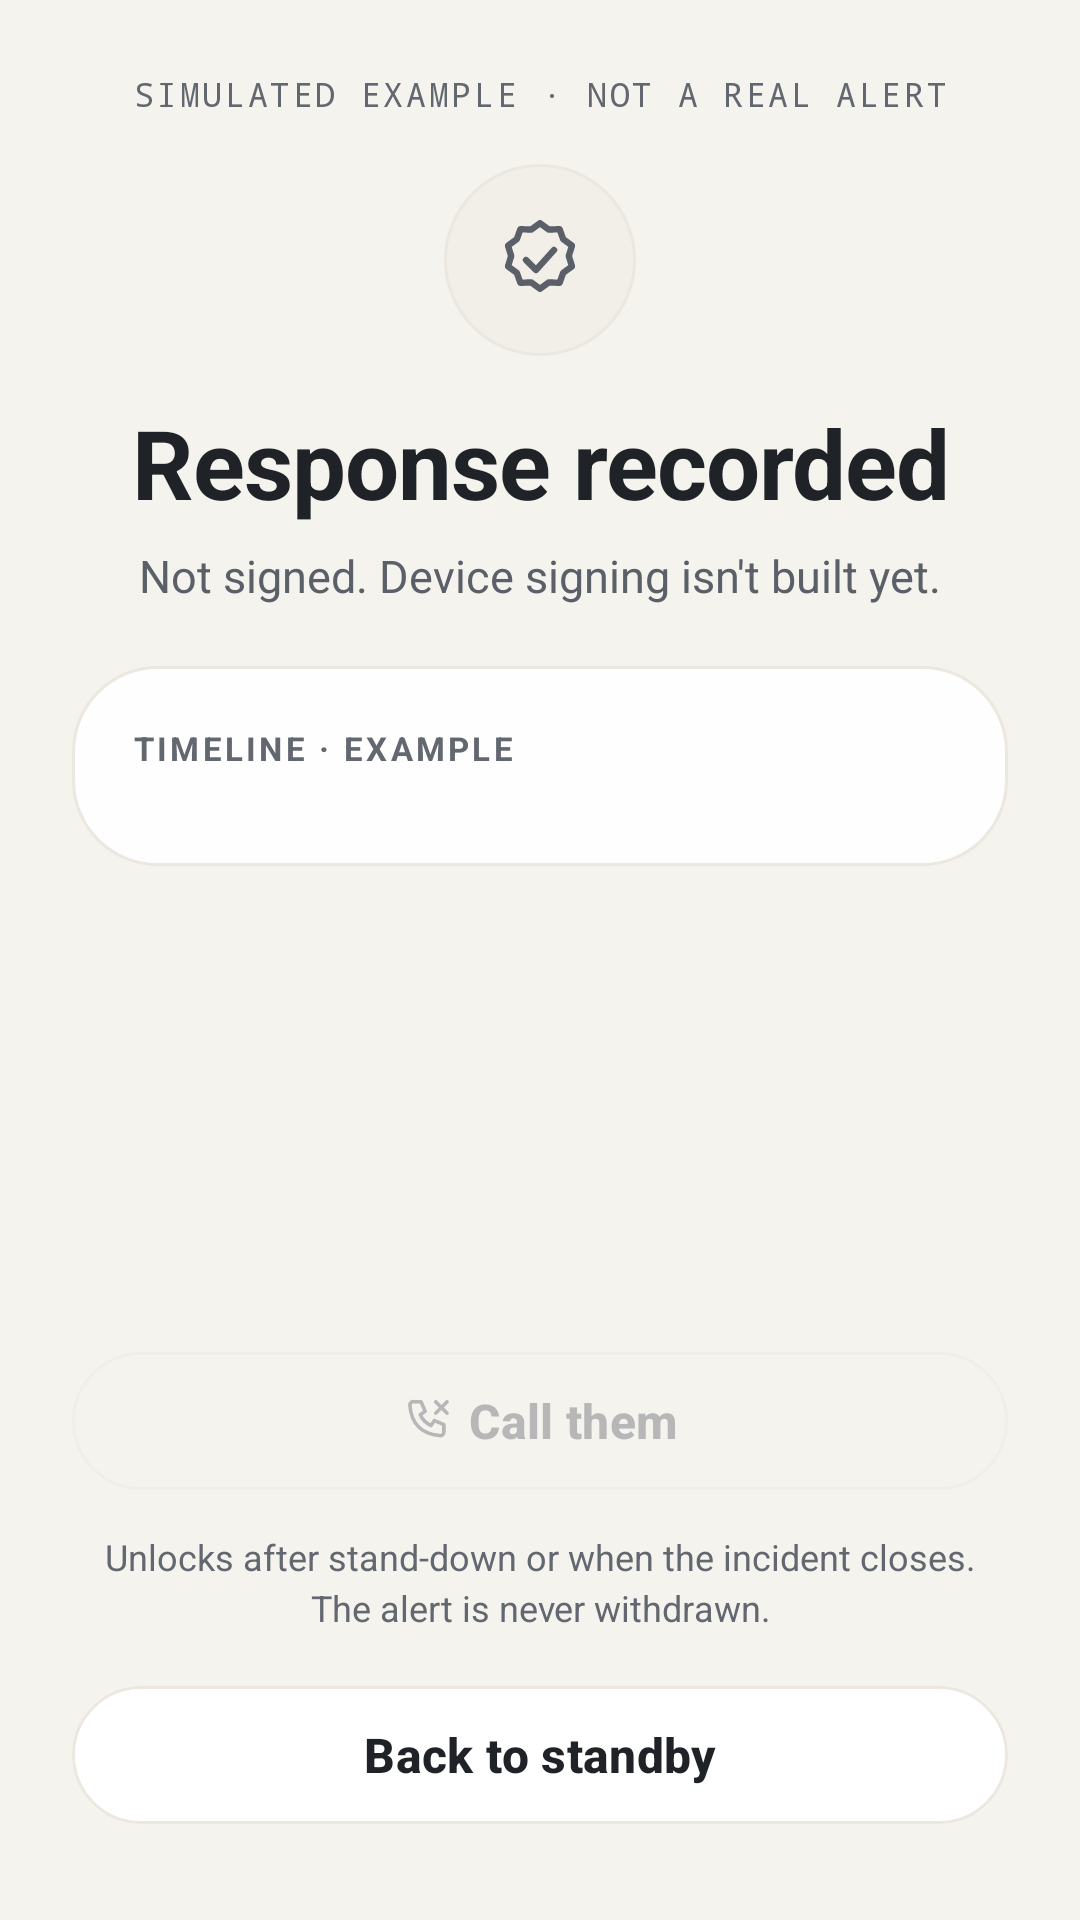

Icons on this 1080×1920 Android screen, each with its box as (x1, y1, x2, y2):
seal check: (505, 220, 575, 292)
